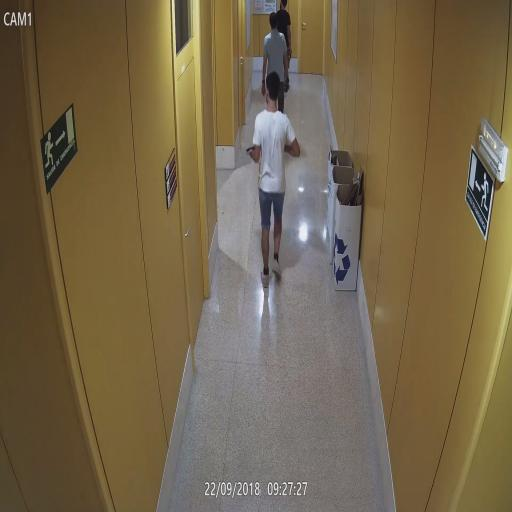Handgun: (287, 47, 294, 59)
